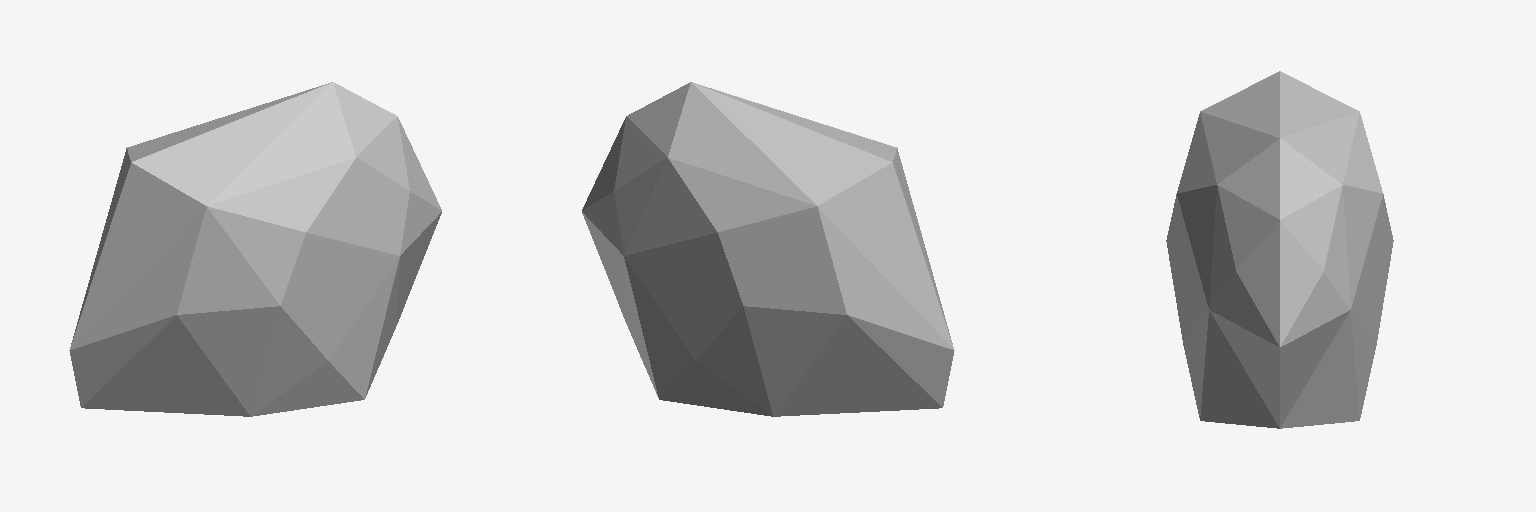
File: carbon_body.obj
3 views of the same model, side by side, from view 1: azimuth 30°, elevation 25°; view 2: azimuth 150°, elevation 25°; view 3: azimuth 270°, elevation 25° (orthographic).
Visible parts, largest first — view 1: CarbonBody; view 2: CarbonBody; view 3: CarbonBody.
Boxes of the visible parts, x1=… form: CarbonBody: x1=69, y1=82, x2=441, y2=416; CarbonBody: x1=582, y1=82, x2=954, y2=416; CarbonBody: x1=1166, y1=71, x2=1393, y2=428.
Bounding box in the file's own units: 2.16 × 1.72 × 1.14.